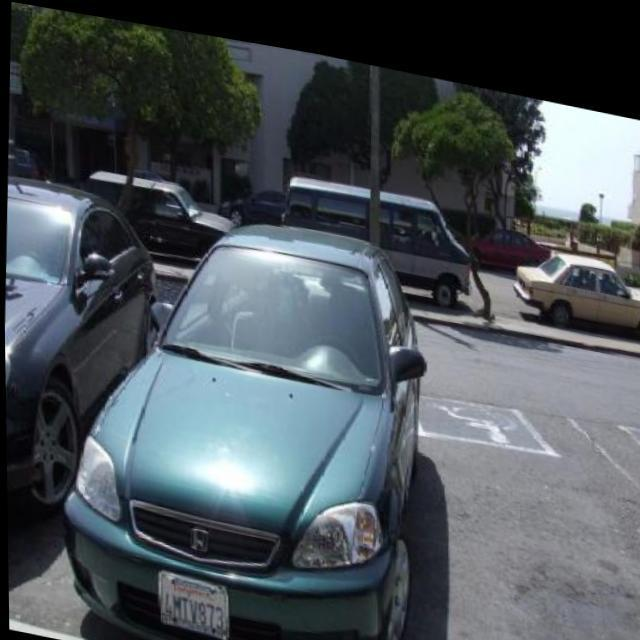license_plate: (154, 563, 230, 636), (520, 258, 525, 270)
